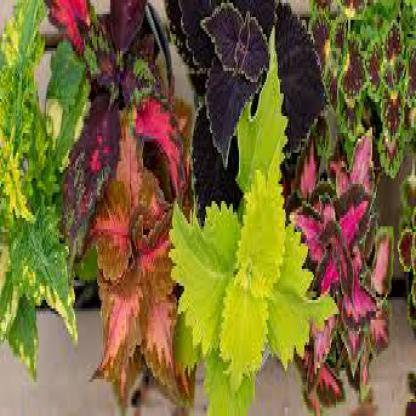Bunga Coleus: (182, 129, 293, 378), (99, 89, 170, 355), (300, 134, 382, 349), (7, 21, 65, 298), (324, 7, 409, 131), (189, 21, 301, 111), (75, 18, 149, 128)
